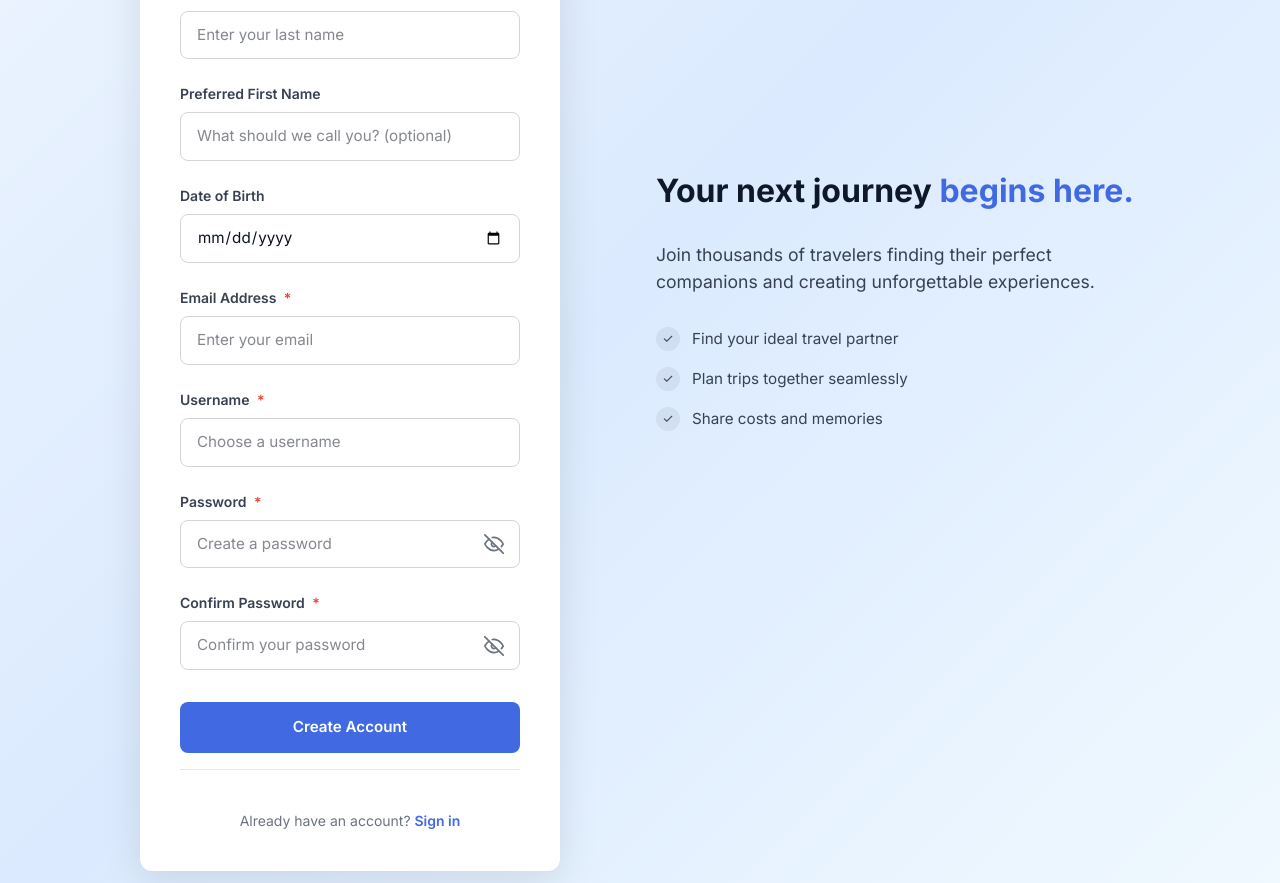
Scenario: Signup › shows error when submitting empty form
(page scrolled)
Step 1. Click the button "Create Account" → [350, 728], box [180,702,520,753]
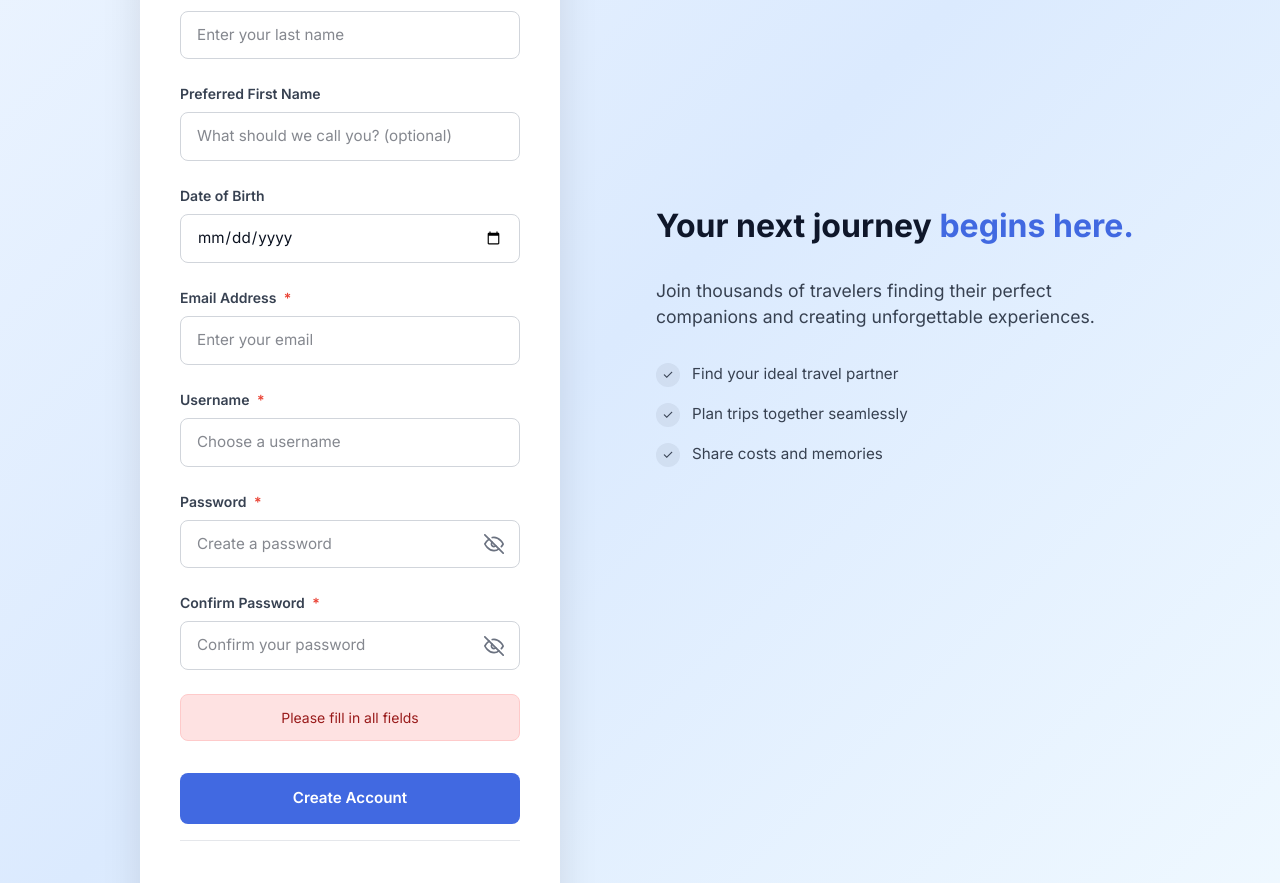
Check: the text "Please fill in all fields" is shown, box [180,694,520,741]
